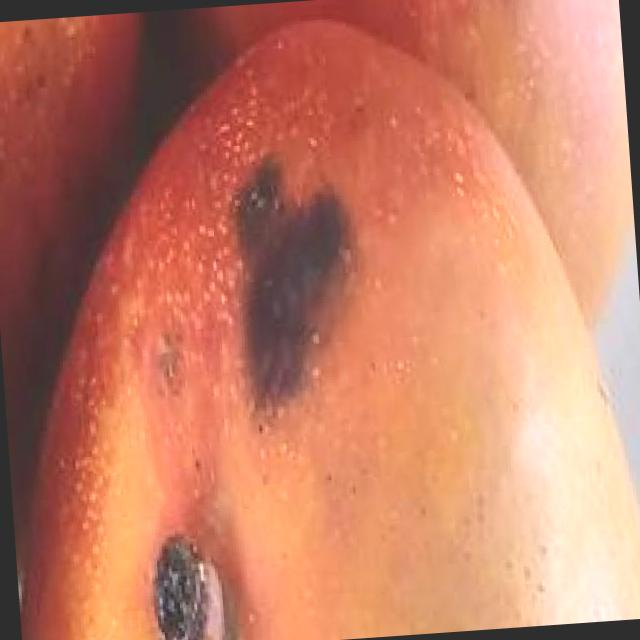Mango: (0, 0, 640, 640), (139, 0, 640, 370), (0, 12, 169, 417)
